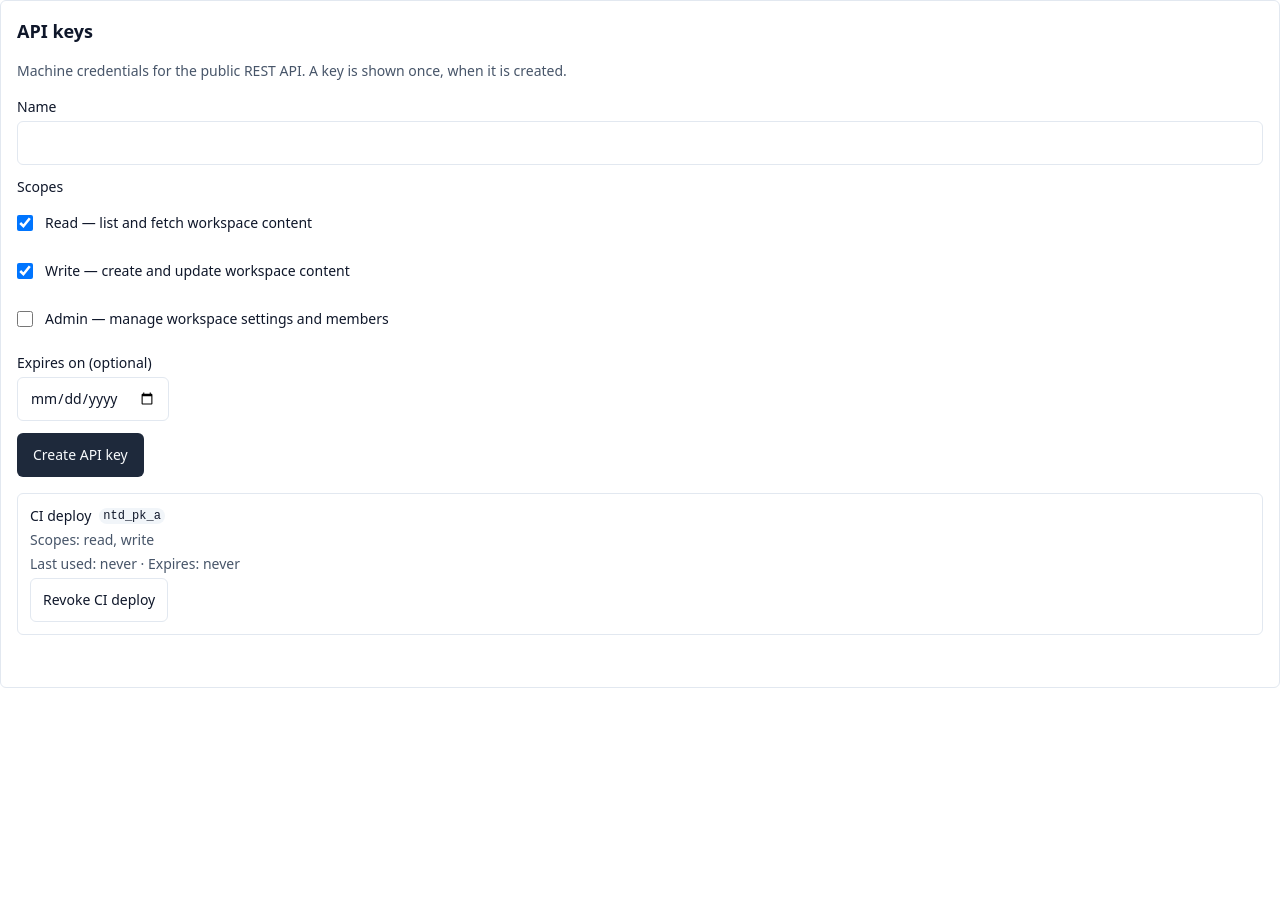
ApiKeys › puts revoke behind a confirmation that can be cancelled
Expected: the text "CI deploy" is shown, [30,506,91,526]
Click the button "Revoke CI deploy".
click(99, 600)  # box [30,578,168,622]
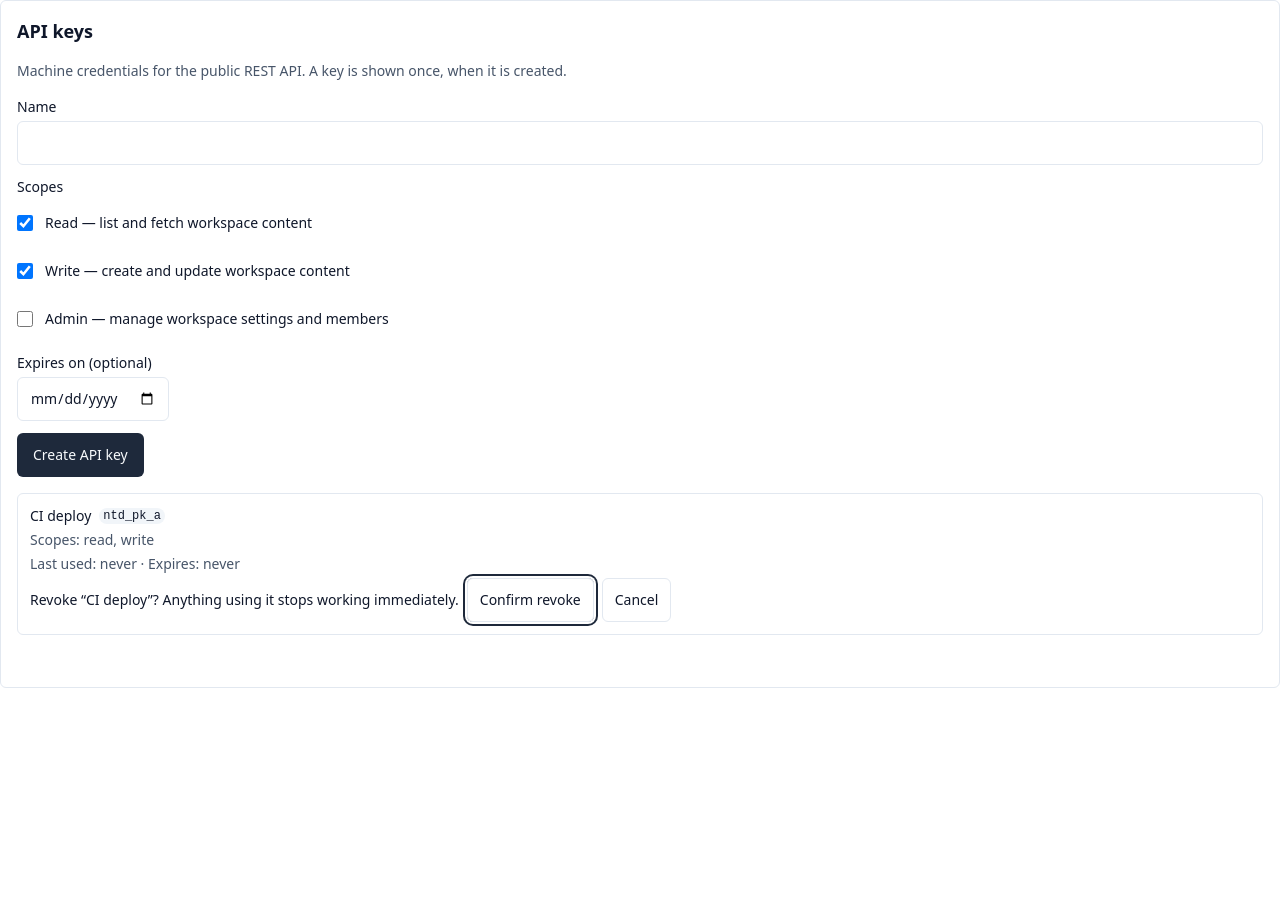
Result: the text "stops working immediately" is shown at [148,590,459,609]
Click the button "Cancel".
click(637, 600)  # box [602,578,671,622]
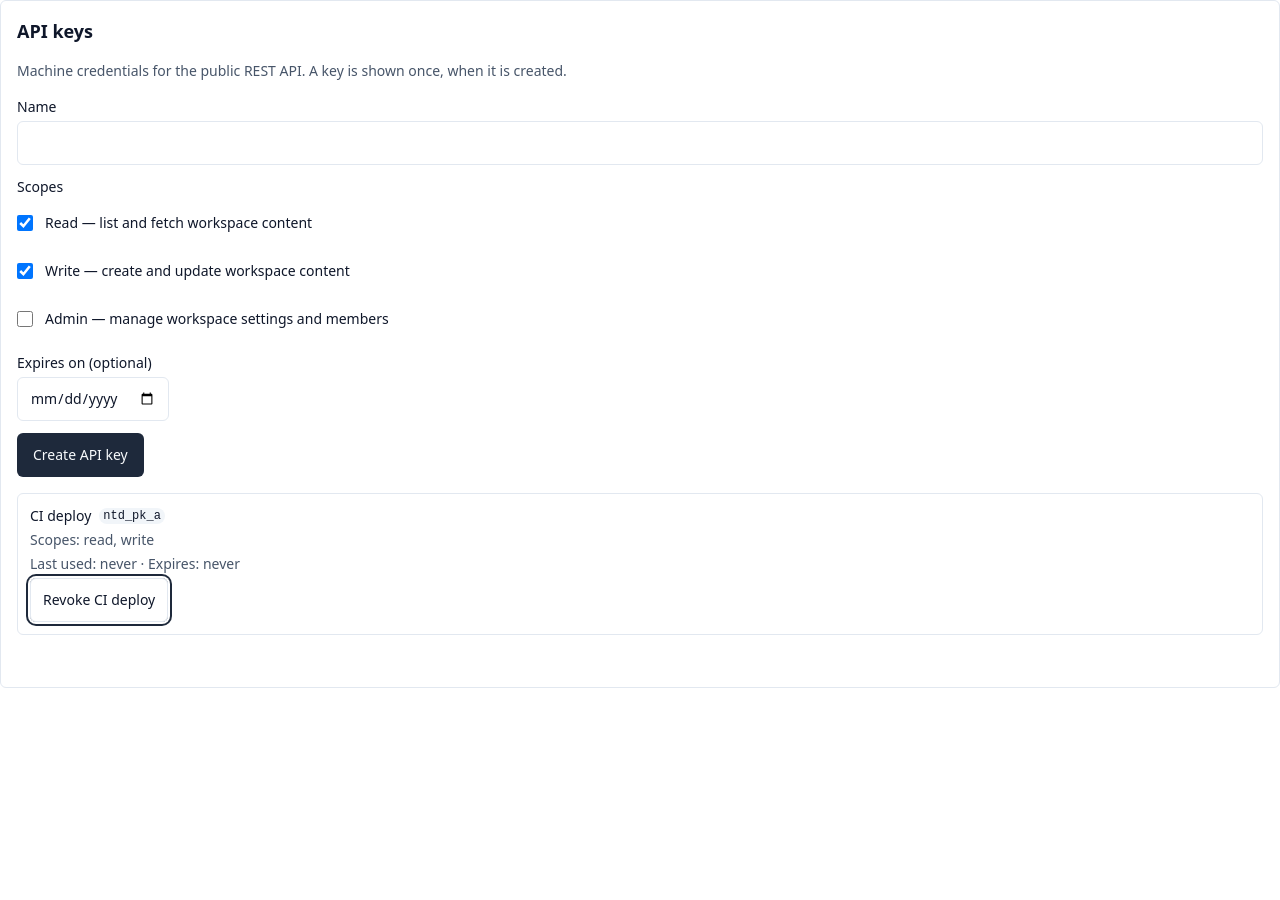
Click the button "Revoke CI deploy".
click(99, 600)  # box [30,578,168,622]
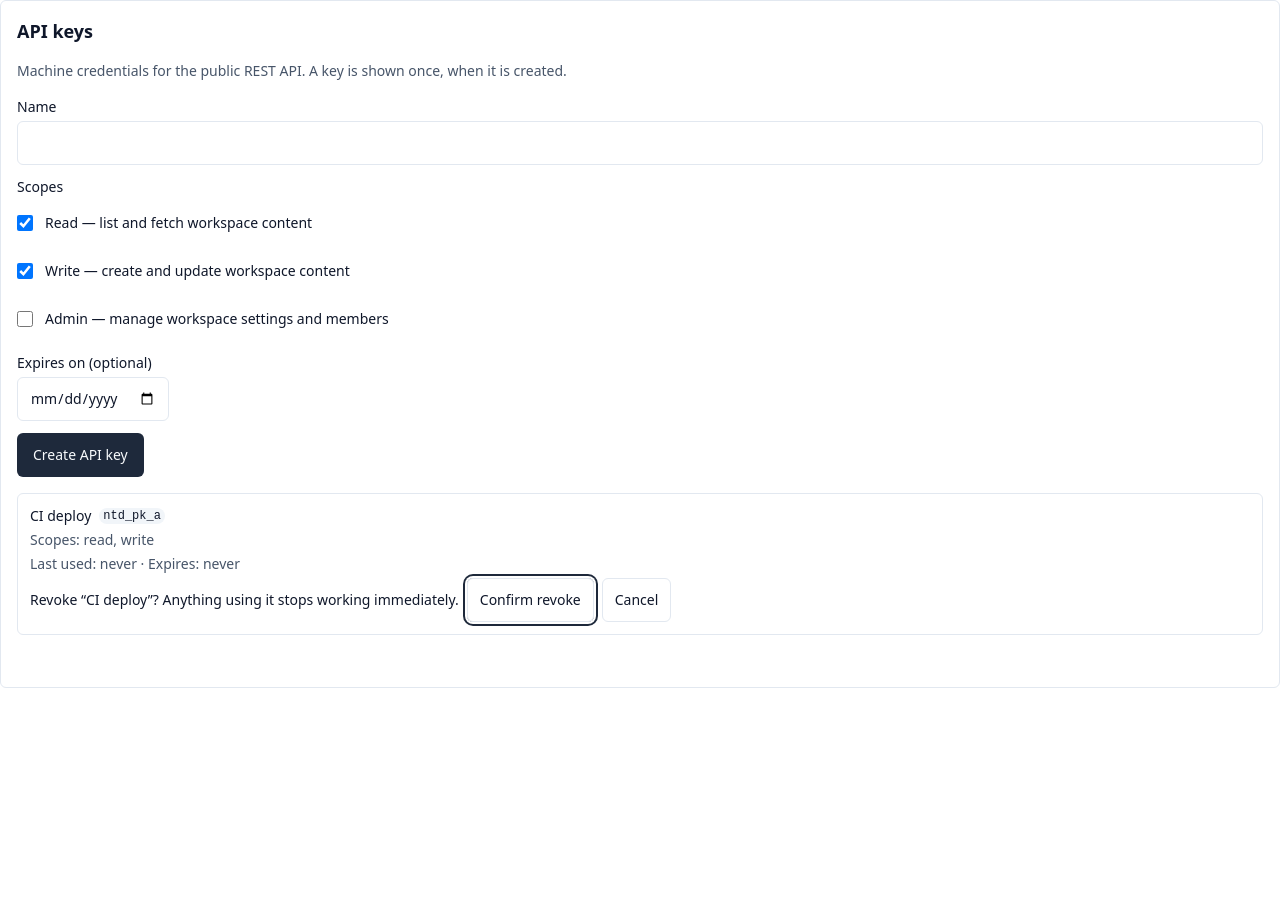
Click the button "Confirm revoke".
click(530, 600)  # box [467,578,594,622]
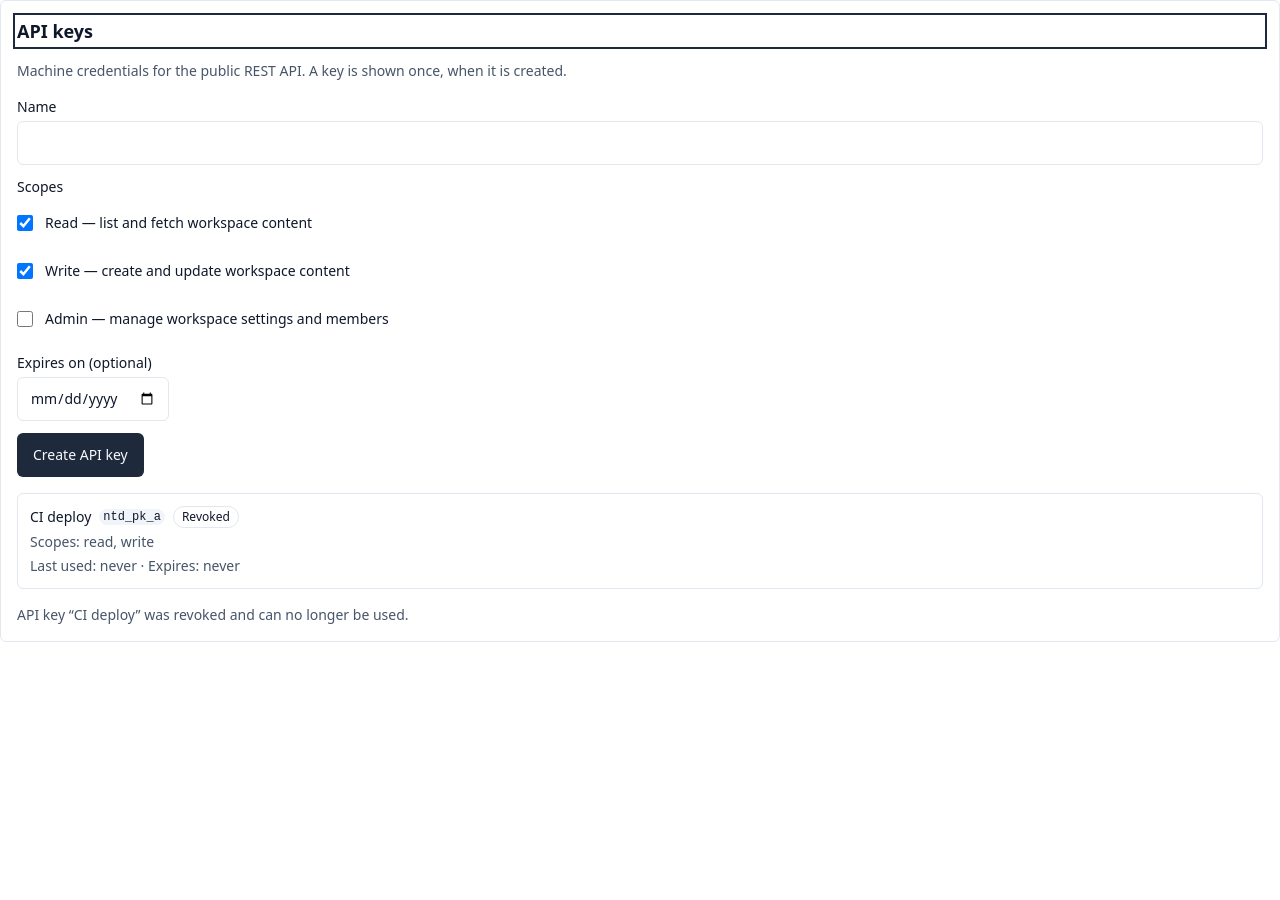
Result: the text "API key “CI deploy” was revoked and can no longer be used." is shown at [17,605,409,624]
Result: the text "Revoked" is shown at [173,506,239,528]
